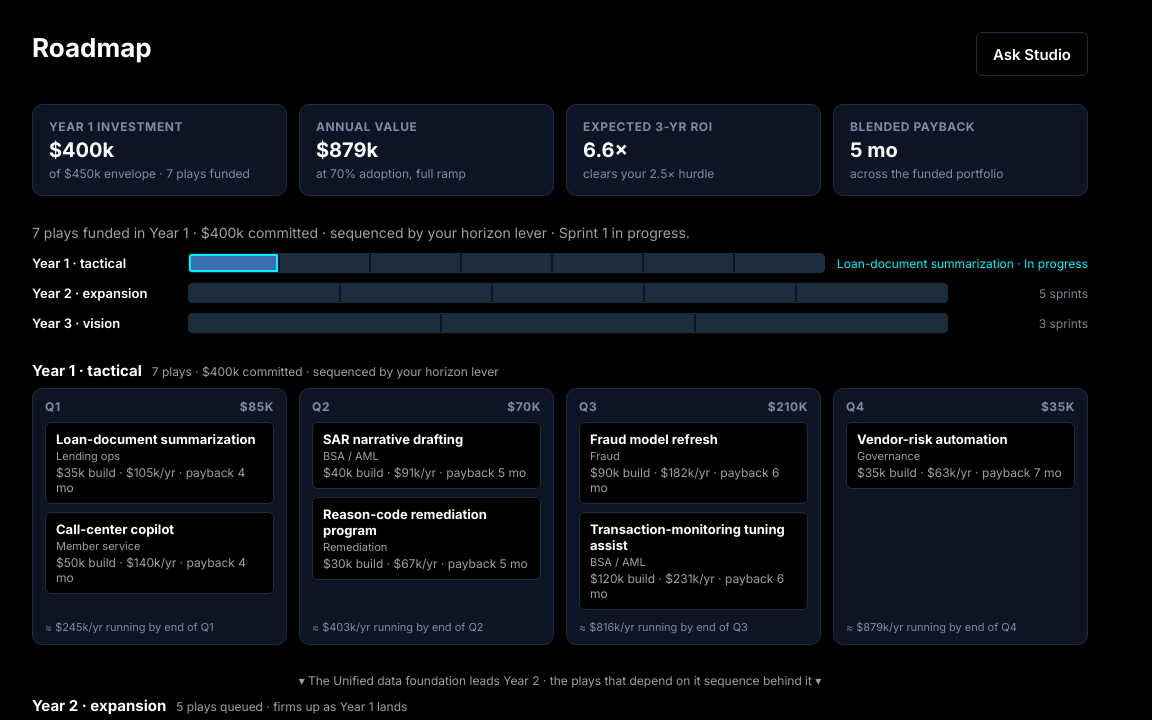
Scenario: Studio · Roadmap — "Ask Studio" entry affordance (AC-A16-4) › renders a secondary-weight "Ask Studio" Button and opens this screen's first local Drawer to "Studio chat"
Click the button "Ask Studio".
click(1032, 54)  # box x1=976 y1=32 x2=1088 y2=76
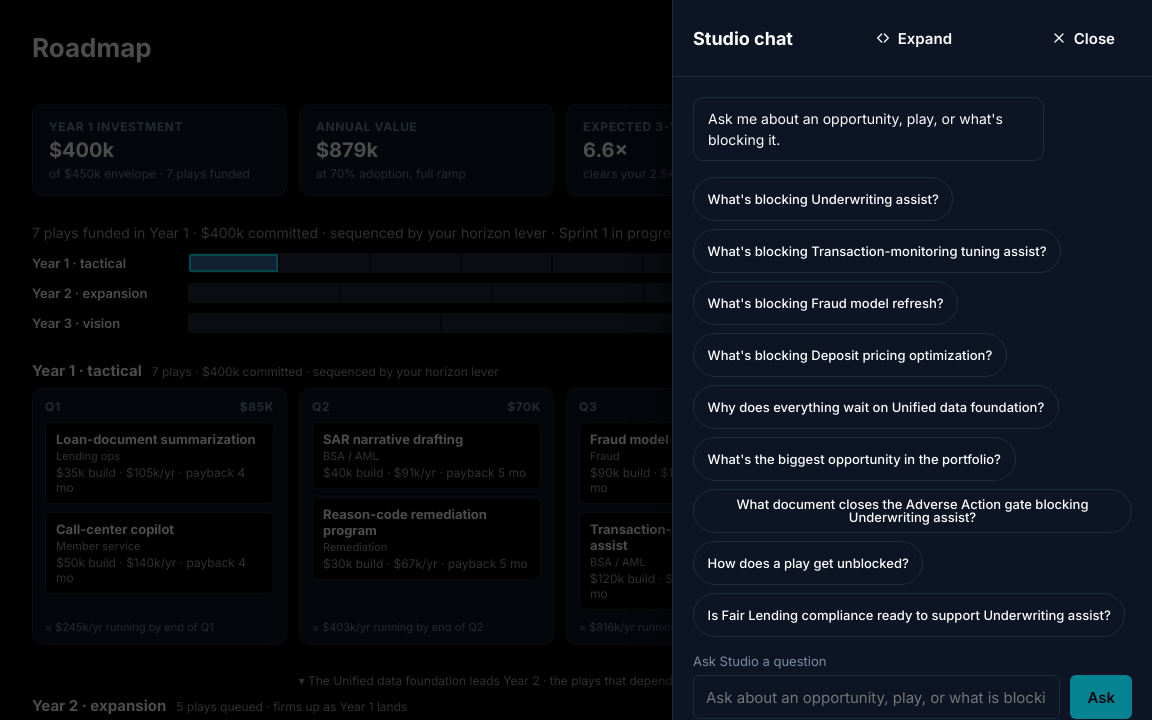
Expected: the number of dialogs is 1, x1=672 y1=0 x2=1151 y2=719
